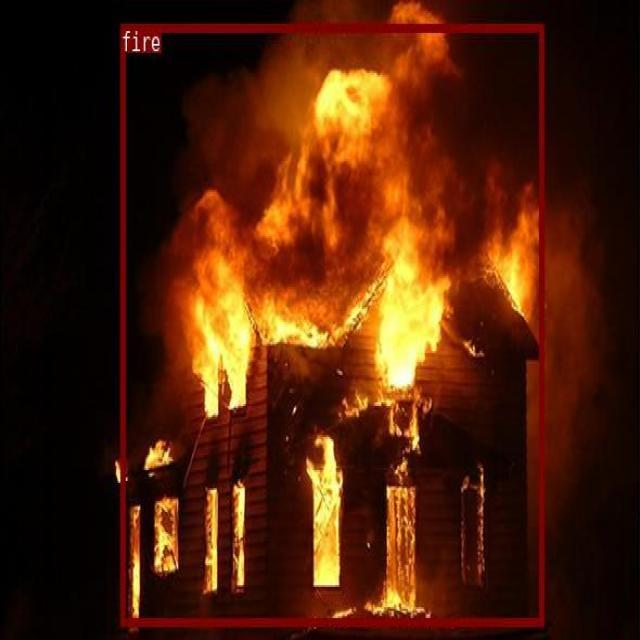fire: (121, 24, 544, 626)
